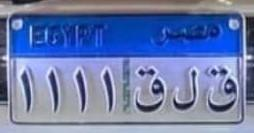1: (94, 63, 118, 113), (69, 64, 89, 115), (16, 65, 36, 116), (44, 66, 63, 112)
laam: (170, 61, 198, 114)
qaaf: (201, 60, 239, 114), (131, 62, 167, 116)
